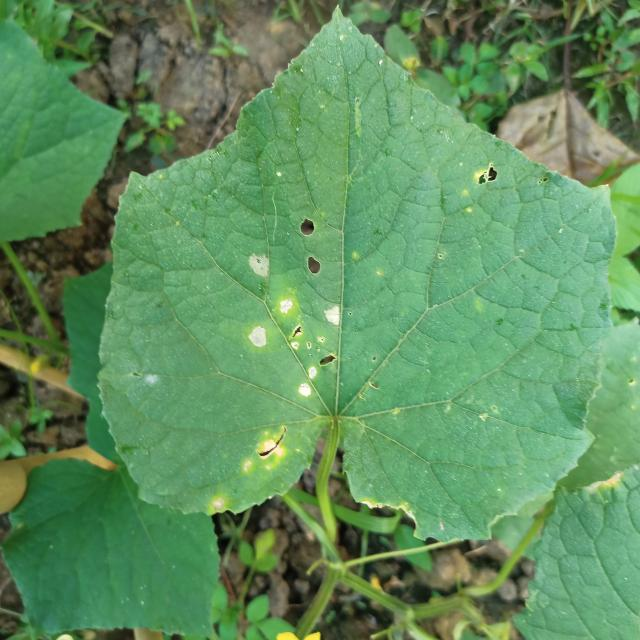disease_cucumber: (237, 245, 347, 404)
